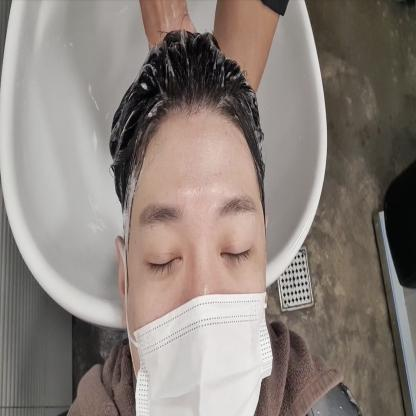streamer: (64, 27, 361, 416)
